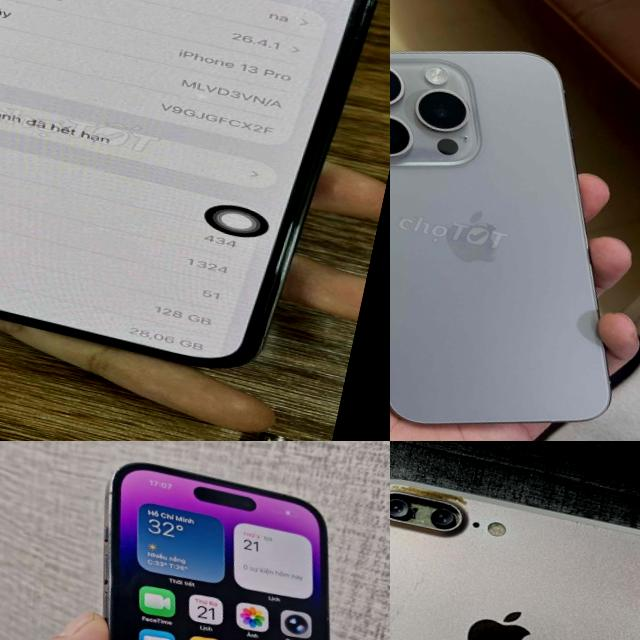physical_damage: (390, 485, 467, 538)
scratch: (390, 478, 471, 504), (390, 573, 425, 631)
